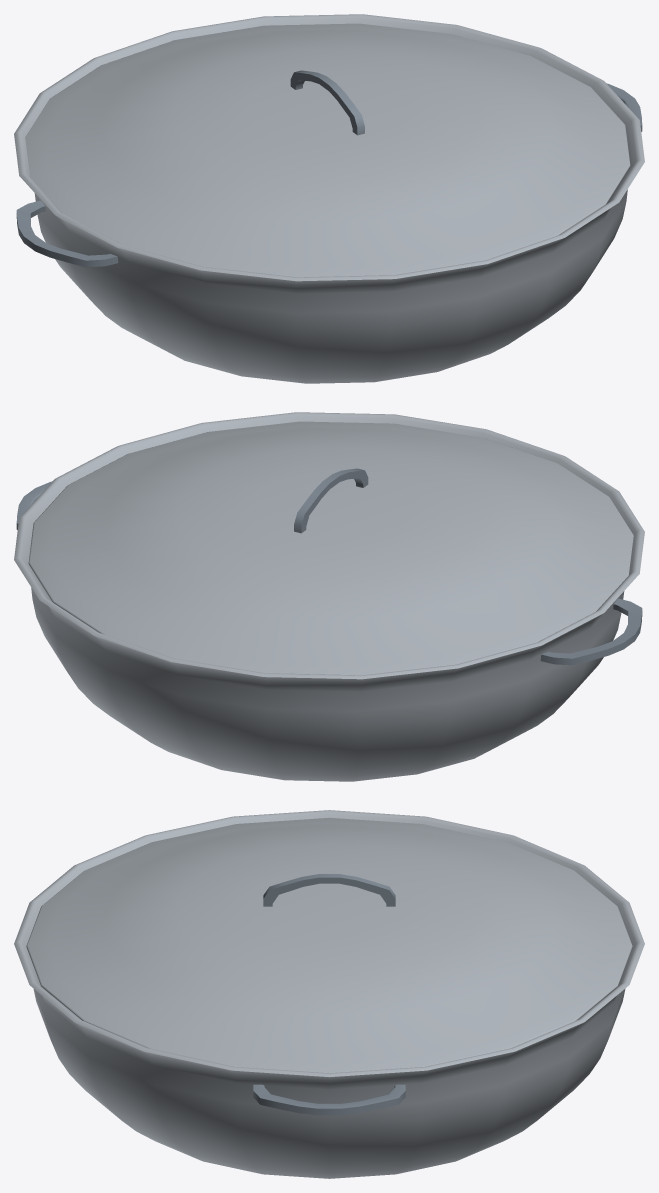
Rendered from Pot-1m.fbx.
The picture shows the model from 3 angles, top to bottom: view 1: azimuth 30°, elevation 25°; view 2: azimuth 150°, elevation 25°; view 3: azimuth 270°, elevation 25°; orthographic projection.
Parts seen in each view (by area): view 1: Pot-Cover, Pot-1m; view 2: Pot-Cover, Pot-1m; view 3: Pot-Cover, Pot-1m.
Boxes of the visible parts, bbox=[...] form: Pot-Cover: bbox=[25, 23, 630, 277]; Pot-1m: bbox=[14, 14, 644, 383]; Pot-Cover: bbox=[28, 421, 633, 675]; Pot-1m: bbox=[14, 412, 644, 781]; Pot-Cover: bbox=[26, 817, 632, 1073]; Pot-1m: bbox=[14, 810, 644, 1178].
Bounding box in the file's own units: 1.09 × 0.4129 × 1.
